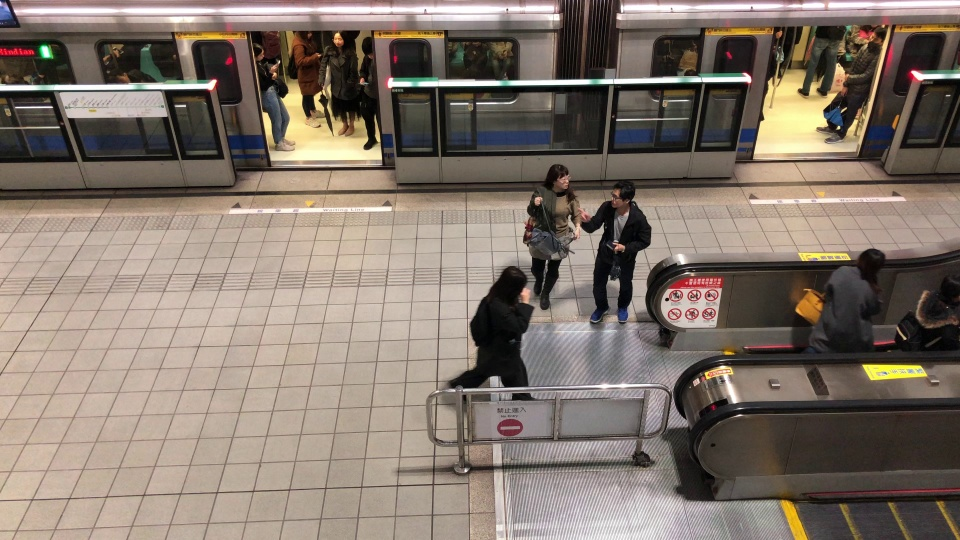person_head: (492, 267, 528, 304), (854, 249, 886, 282), (606, 181, 636, 213), (542, 165, 571, 194), (938, 269, 960, 307), (359, 35, 377, 60), (869, 25, 887, 50), (250, 41, 266, 63), (332, 30, 345, 50), (298, 30, 314, 44)
person_vbox: (442, 268, 536, 401), (575, 180, 656, 328), (791, 250, 888, 360), (813, 25, 889, 143), (526, 165, 582, 310), (890, 270, 960, 357), (247, 40, 295, 153), (317, 30, 363, 136), (790, 23, 846, 102), (287, 30, 326, 127), (356, 35, 387, 149)
